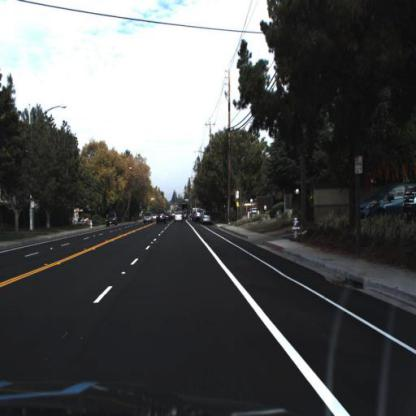car: (105, 209, 120, 232), (174, 208, 187, 225), (202, 212, 215, 229), (155, 212, 168, 228)
